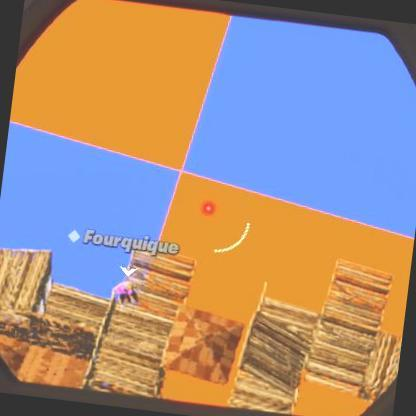person: (114, 280, 141, 307)
